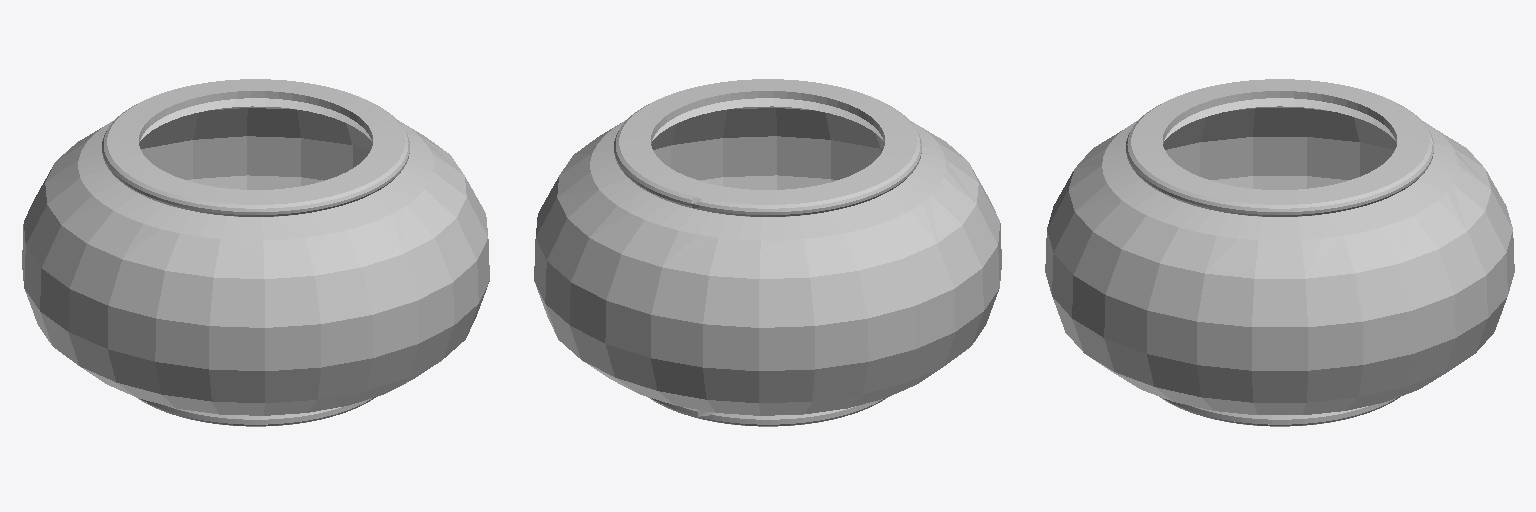
Rendered from GoldfishCastleBowl2.obj.
The picture shows the model from 3 angles: view 1: azimuth 30°, elevation 25°; view 2: azimuth 150°, elevation 25°; view 3: azimuth 270°, elevation 25°; orthographic projection.
Parts seen in each view (by area): view 1: initialShadingGroup revolvedSurface1; view 2: initialShadingGroup revolvedSurface1; view 3: initialShadingGroup revolvedSurface1.
Boxes of the visible parts, x1=… form: initialShadingGroup revolvedSurface1: x1=22, y1=79, x2=489, y2=426; initialShadingGroup revolvedSurface1: x1=534, y1=79, x2=1001, y2=426; initialShadingGroup revolvedSurface1: x1=1045, y1=79, x2=1514, y2=426.
Bounding box in the file's own units: 23.84 × 13.03 × 24.02.